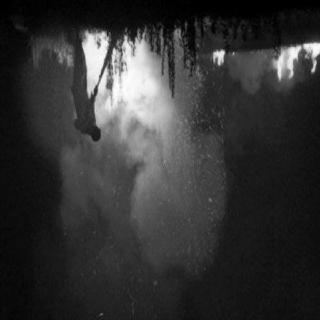Fire: (90, 34, 186, 138), (209, 43, 319, 90)
